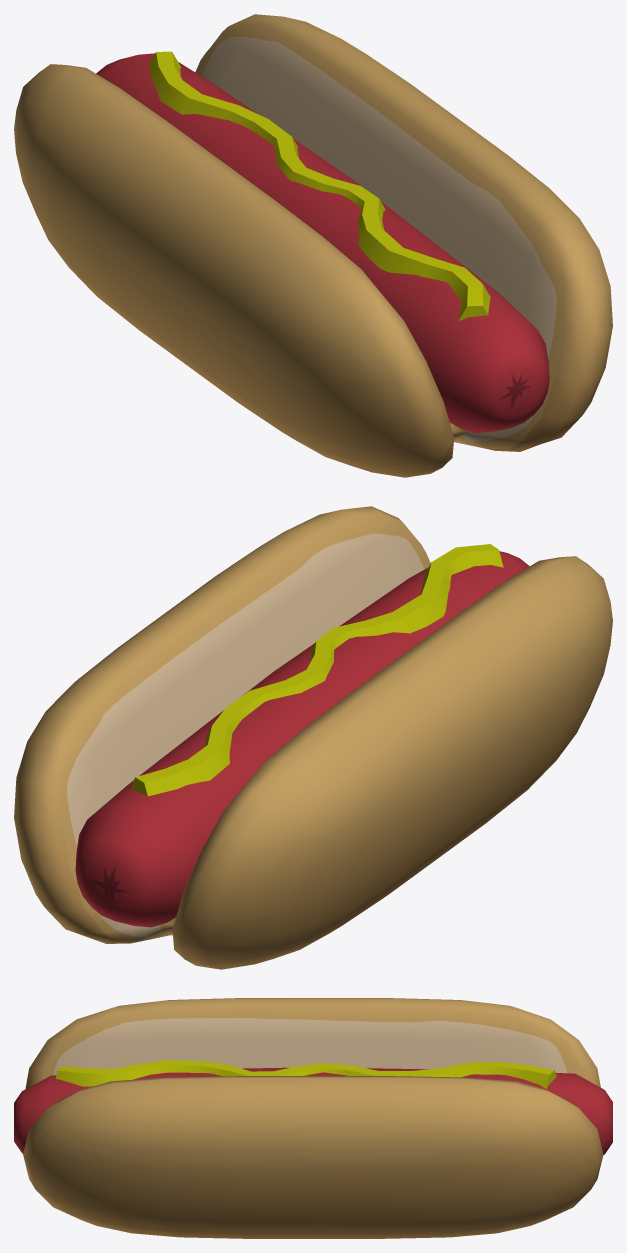
The model's file is Hotdog.fbx.
3 views of the same model, one above another, from view 1: azimuth 30°, elevation 25°; view 2: azimuth 150°, elevation 25°; view 3: azimuth 270°, elevation 25° (orthographic). The views are drawn at different scales.
Visible parts, largest first — view 1: Bun, Sassage, Sauce; view 2: Bun, Sassage, Sauce; view 3: Bun, Sauce, Sassage.
Part boxes in pixels (x1,y1,x2,y2): Bun: (14,14,612,477); Sassage: (96,53,549,433); Sauce: (149,51,490,320); Bun: (14,506,612,969); Sassage: (75,551,529,927); Sauce: (130,544,503,796); Bun: (23,998,603,1238); Sauce: (55,1060,556,1089); Sassage: (14,1067,612,1154).
Size of the model in its own units: 0.9507 by 0.6472 by 2.02.
3 materials, 2 textured.
